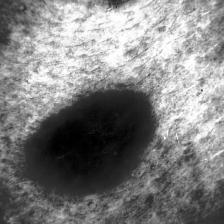Benign Marking or Mole: (28, 96, 158, 185)
